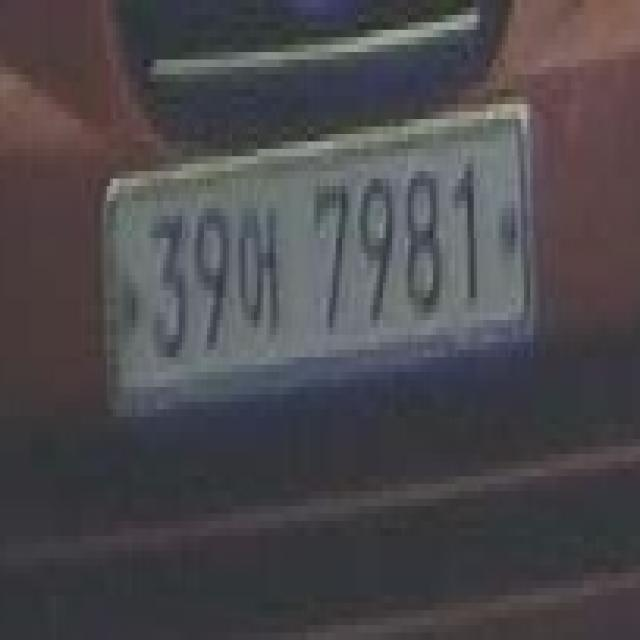1: (452, 156, 480, 313)
3: (150, 208, 192, 365)
7: (311, 164, 348, 327)
8: (402, 164, 446, 312)
9: (194, 208, 238, 358), (358, 179, 395, 320)
eo: (235, 194, 282, 342)
license_plate: (100, 96, 536, 432)
